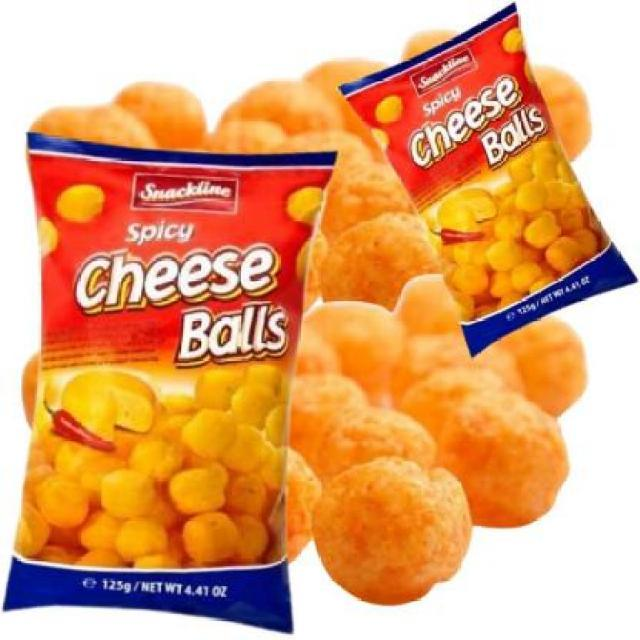Chips: (7, 122, 313, 638), (332, 1, 640, 359)
